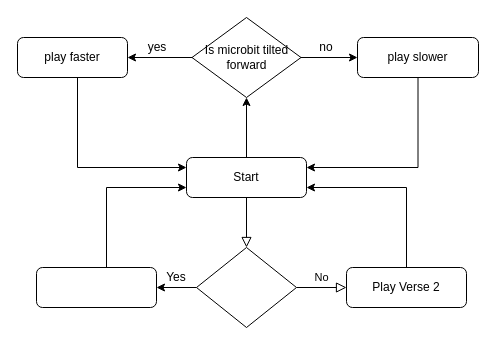
This 496x345 diagram has some shape labels left out. The shapes that lost their labels are listed below. From the top down, each one's centre as x and y in pixels, then its label:
At point 96,287: "Play Verse 1".
At point 246,287: "Is Brightness over 100".
